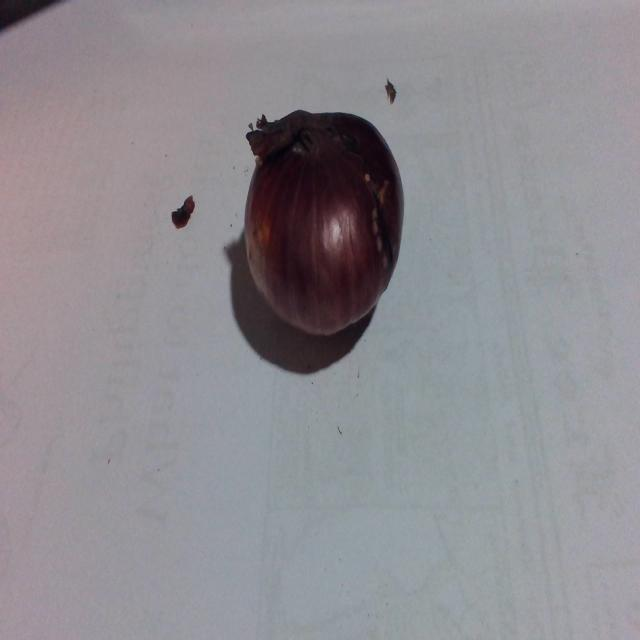onion: (234, 102, 406, 358)
